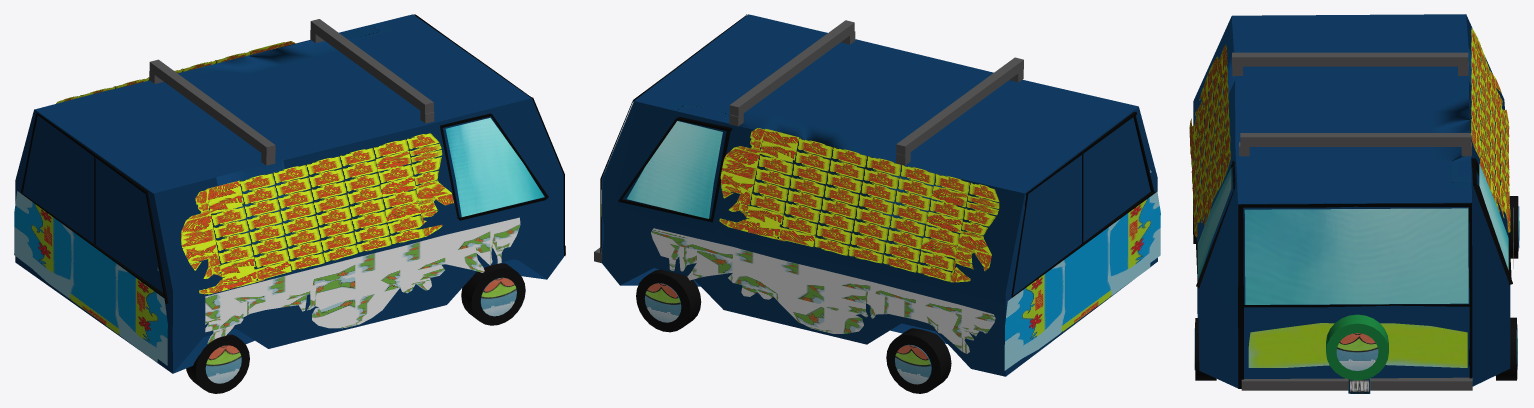
File: mistery.obj
The picture shows the model from 3 angles, left to right: view 1: azimuth 30°, elevation 25°; view 2: azimuth 150°, elevation 25°; view 3: azimuth 270°, elevation 25°; orthographic projection.
Parts seen in each view (by area): view 1: auto, fiancosuperiore1, fiancoinferiore2, retro, vetrosportello1, Box5, Box4, ruota, ruota3, cerchione1, cerchione2, fiancosuperiore2 (+2 smaller); view 2: auto, fiancosuperiore2, fiancoinferiore1, retro, vetrosportello2, Box5, Box4, ruota2, ruota1, cerchione4, cerchione3, linea1 (+1 smaller); view 3: auto, fronte1, targa, fiancosuperiore1, fiancosuperiore2, Box5, rifinitura_fronte, Box4, paraurti, ruota_di_scorta, ruota_di_scorta1, vetrosportello1 (+7 smaller).
Part boxes in pixels (x1,y1,x2,y2): auto: [15, 14, 563, 373]; fiancosuperiore1: [181, 133, 453, 294]; fiancoinferiore2: [205, 217, 520, 343]; retro: [14, 191, 167, 365]; vetrosportello1: [445, 118, 544, 216]; Box5: [149, 59, 275, 156]; Box4: [310, 19, 433, 113]; ruota: [461, 263, 525, 325]; ruota3: [186, 334, 249, 393]; cerchione1: [480, 277, 516, 316]; cerchione2: [205, 345, 241, 383]; fiancosuperiore2: [56, 41, 295, 103]; auto: [601, 14, 1157, 376]; fiancosuperiore2: [719, 128, 999, 282]; fiancoinferiore1: [651, 228, 995, 353]; retro: [1004, 170, 1160, 370]; vetrosportello2: [627, 121, 722, 218]; Box5: [896, 57, 1023, 155]; Box4: [729, 20, 854, 116]; ruota2: [886, 328, 951, 393]; ruota1: [636, 269, 701, 332]; cerchione4: [895, 344, 931, 384]; cerchione3: [644, 283, 681, 322]; linea1: [1011, 191, 1155, 297]; auto: [1193, 14, 1510, 388]; fronte1: [1244, 208, 1468, 304]; targa: [1248, 323, 1467, 367]; fiancosuperiore1: [1189, 45, 1230, 237]; fiancosuperiore2: [1471, 28, 1510, 232]; Box5: [1232, 52, 1468, 66]; rifinitura_fronte: [1238, 203, 1472, 388]; Box4: [1240, 133, 1471, 146]; paraurti: [1241, 377, 1472, 390]; ruota_di_scorta: [1326, 314, 1388, 380]; ruota_di_scorta1: [1336, 333, 1378, 370]; vetrosportello1: [1197, 167, 1231, 280].
Bounding box in the file's own units: 4.84 × 2.3 × 3.14.
